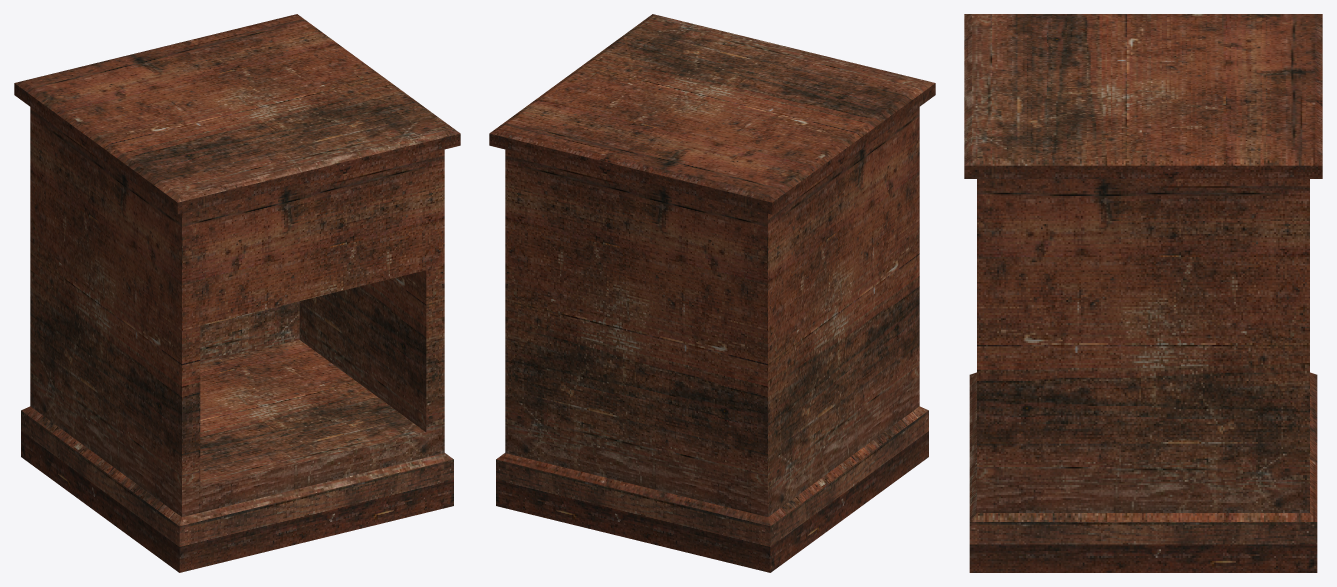
The model's file is storage1.glb.
The picture shows the model from 3 angles, left to right: view 1: azimuth 30°, elevation 25°; view 2: azimuth 150°, elevation 25°; view 3: azimuth 270°, elevation 25°; orthographic projection. The views are drawn at different scales.
Visible parts, largest first — view 1: storage; view 2: storage; view 3: storage.
Boxes of the visible parts, box(x1,y1,x2,y2) form: storage: box(14, 14, 460, 572); storage: box(489, 14, 935, 572); storage: box(964, 14, 1322, 572).
Bounding box in the file's own units: 2.16 × 2.74 × 2.16.
Materials: 1 (1 with a texture image).
